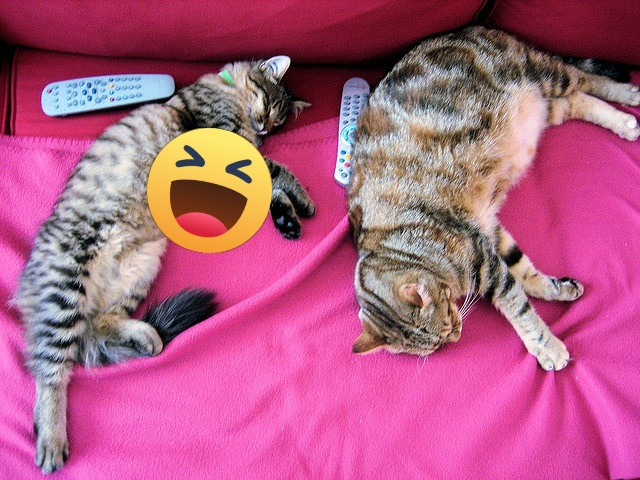haha: (147, 128, 272, 253)
